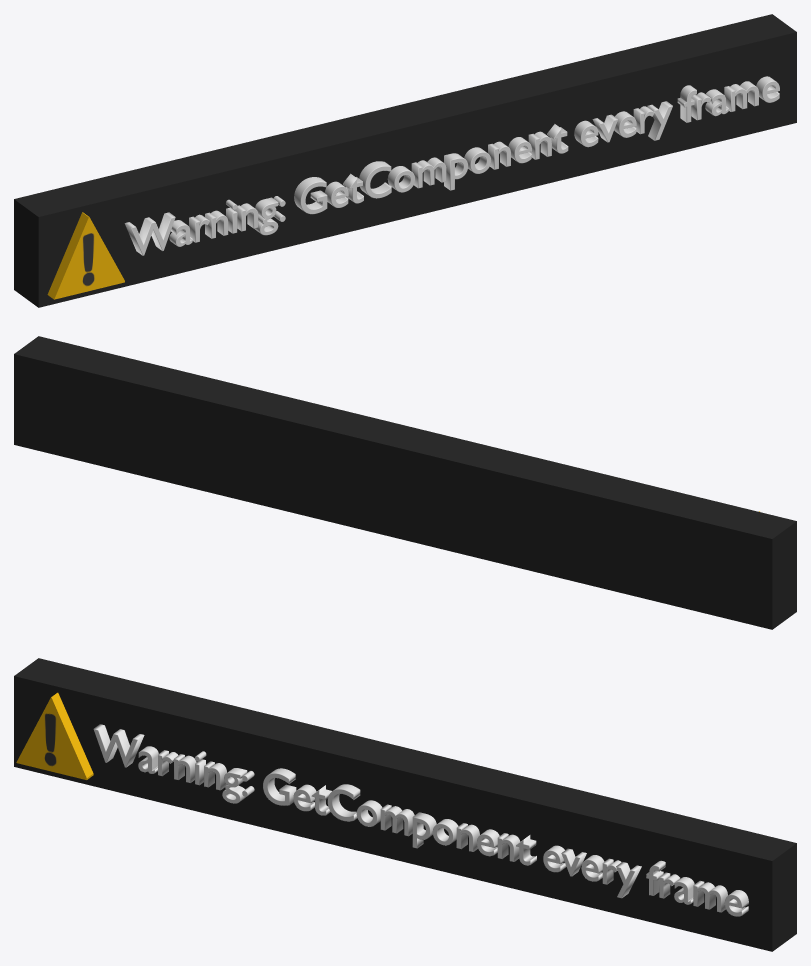
Rendered from Warning_ GetComponent every frame1.fbx.
The picture shows the model from 3 angles, top to bottom: view 1: azimuth 30°, elevation 25°; view 2: azimuth 150°, elevation 25°; view 3: azimuth 330°, elevation 25°; orthographic projection.
Visible parts, largest first — view 1: no2, Warning: GetComponent every frame; view 2: no2; view 3: no2, Warning: GetComponent every frame.
Boxes of the visible parts, x1,y1,x2,y2 form: no2: [14, 14, 796, 307]; Warning: GetComponent every frame: [124, 76, 779, 255]; no2: [14, 336, 796, 629]; no2: [14, 658, 796, 951]; Warning: GetComponent every frame: [93, 724, 748, 916].
Bounding box in the file's own units: 3454 × 395 × 247.
